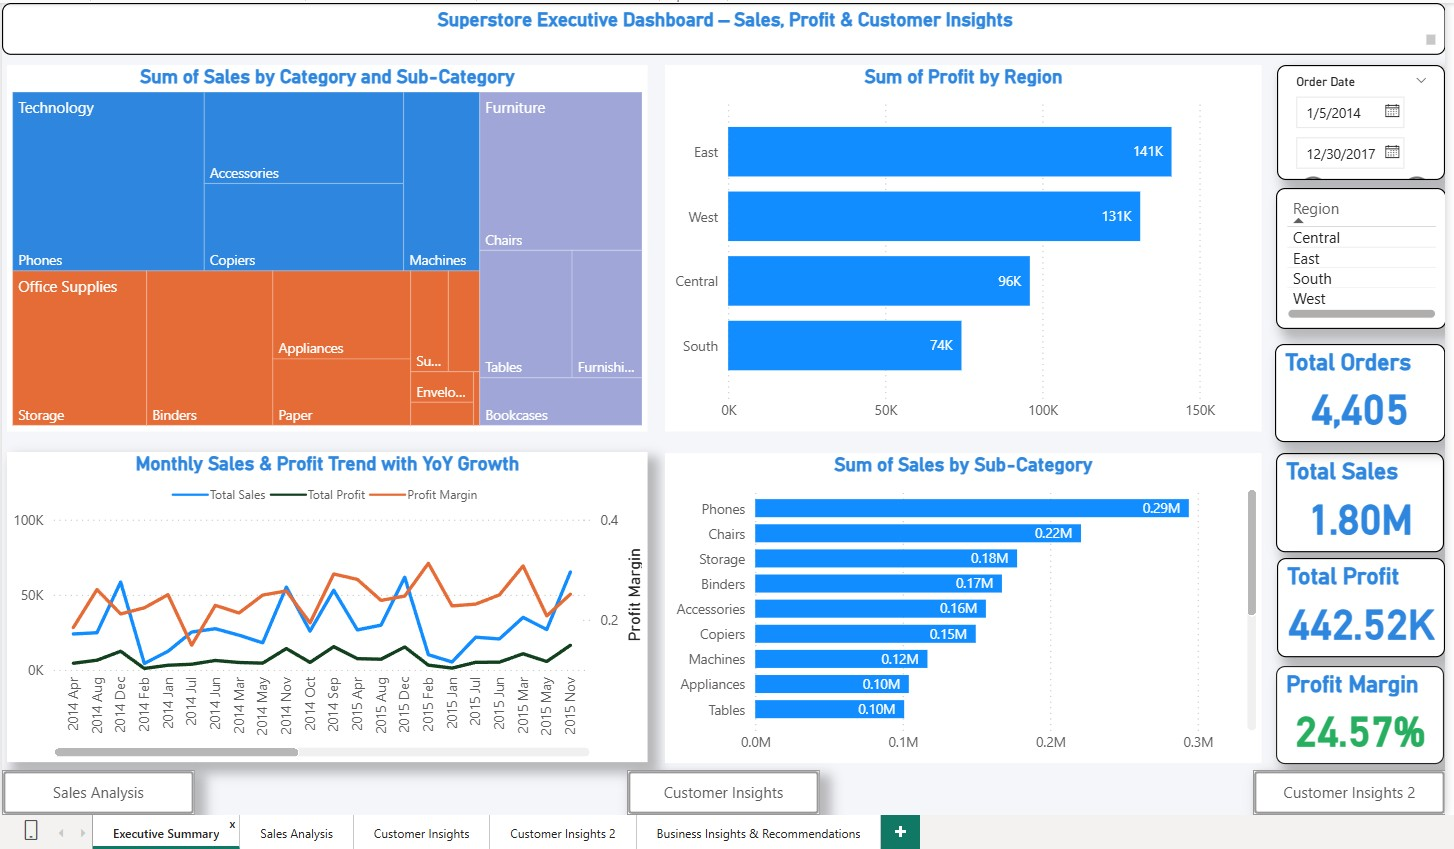

What the dashboard file says about the page in this screenshot:
{"tool":"powerbi","page":{"name":"Executive Summary","canvas":[1280,720],"ordinal":0},"visuals":[{"type":"slicer","fields":{"Values":["Sample - Superstore.Order Date"]},"box":[1130.6,54.8,149.4,101.5],"z":0},{"type":"lineChart","title":"Monthly Sales & Profit Trend with YoY Growth","fields":{"Y":["Calendar.Total Sales","Calendar.Total Profit"],"Y2":["Calendar.Profit Margin"],"Category":["Calendar.Month Year"]},"box":[4.4,398.1,568.4,274.9],"z":2000},{"type":"tableEx","fields":{"Values":["Location.Region"]},"box":[1129.4,164.3,150.6,125.5],"z":3000},{"type":"card","title":"Total Sales","fields":{"Values":["Calendar.Total Sales"]},"box":[1129.4,399.3,149.4,87.8],"z":4000},{"type":"card","title":"Total Profit","fields":{"Values":["Calendar.Total Profit"]},"box":[1130.6,491.7,149.4,87.8],"z":5000},{"type":"card","title":"Profit Margin","fields":{"Values":["Calendar.Profit Margin"]},"box":[1129.4,587.5,149.4,86.7],"z":6000},{"type":"card","title":"Total Orders","fields":{"Values":["Calendar.Total Orders"]},"box":[1128.8,302.4,150.7,86.9],"z":7000},{"type":"treemap","fields":{"Group":["Sample - Superstore.Category"],"Values":["Sum(Sample - Superstore.Sales)"],"Details":["Sample - Superstore.Sub-Category"]},"box":[4.4,55,568.4,324.5],"z":10000},{"type":"clusteredBarChart","fields":{"Y":["Sum(Sample - Superstore.Profit)"],"Category":["Sample - Superstore.Region"]},"box":[587.9,55,529.4,324.5],"z":11000},{"type":"barChart","fields":{"Category":["Sample - Superstore.Sub-Category"],"Y":["Sum(Sample - Superstore.Sales)"]},"box":[587.9,399,529.4,274.9],"z":12000},{"type":"textbox","title":"Superstore Executive Dashboard – Sales, Profit & Customer Insights","box":[0,0,1280.4,46.1],"z":13000},{"type":"actionButton","box":[0,680.1,171.1,39.9],"z":13001},{"type":"actionButton","box":[554.2,680.1,171.1,39.9],"z":13002},{"type":"actionButton","box":[1109.3,680.1,171.1,39.9],"z":13003}]}

Visuals, with their boxes on the page's 1280x720 design canvas (x1, y1, x2, y2). These are canvas units, not pixel positions in the 1454x849 screenshot, which may show the page scaled, cropped or inside an application window:
slicer - Sample - Superstore.Order Date: l=1131, t=55, r=1280, b=156
"Monthly Sales & Profit Trend with YoY Growth" lineChart: l=4, t=398, r=573, b=673
tableEx - Location.Region: l=1129, t=164, r=1280, b=290
"Total Sales" card: l=1129, t=399, r=1279, b=487
"Total Profit" card: l=1131, t=492, r=1280, b=580
"Profit Margin" card: l=1129, t=588, r=1279, b=674
"Total Orders" card: l=1129, t=302, r=1280, b=389
treemap - Sample - Superstore.Category x Sum(Sample - Superstore.Sales): l=4, t=55, r=573, b=380
clusteredBarChart - Sum(Sample - Superstore.Profit) x Sample - Superstore.Region: l=588, t=55, r=1117, b=380
barChart - Sample - Superstore.Sub-Category x Sum(Sample - Superstore.Sales): l=588, t=399, r=1117, b=674
"Superstore Executive Dashboard – Sales, Profit & Customer Insights" textbox: l=0, t=0, r=1280, b=46
actionButton: l=0, t=680, r=171, b=720
actionButton: l=554, t=680, r=725, b=720
actionButton: l=1109, t=680, r=1280, b=720
